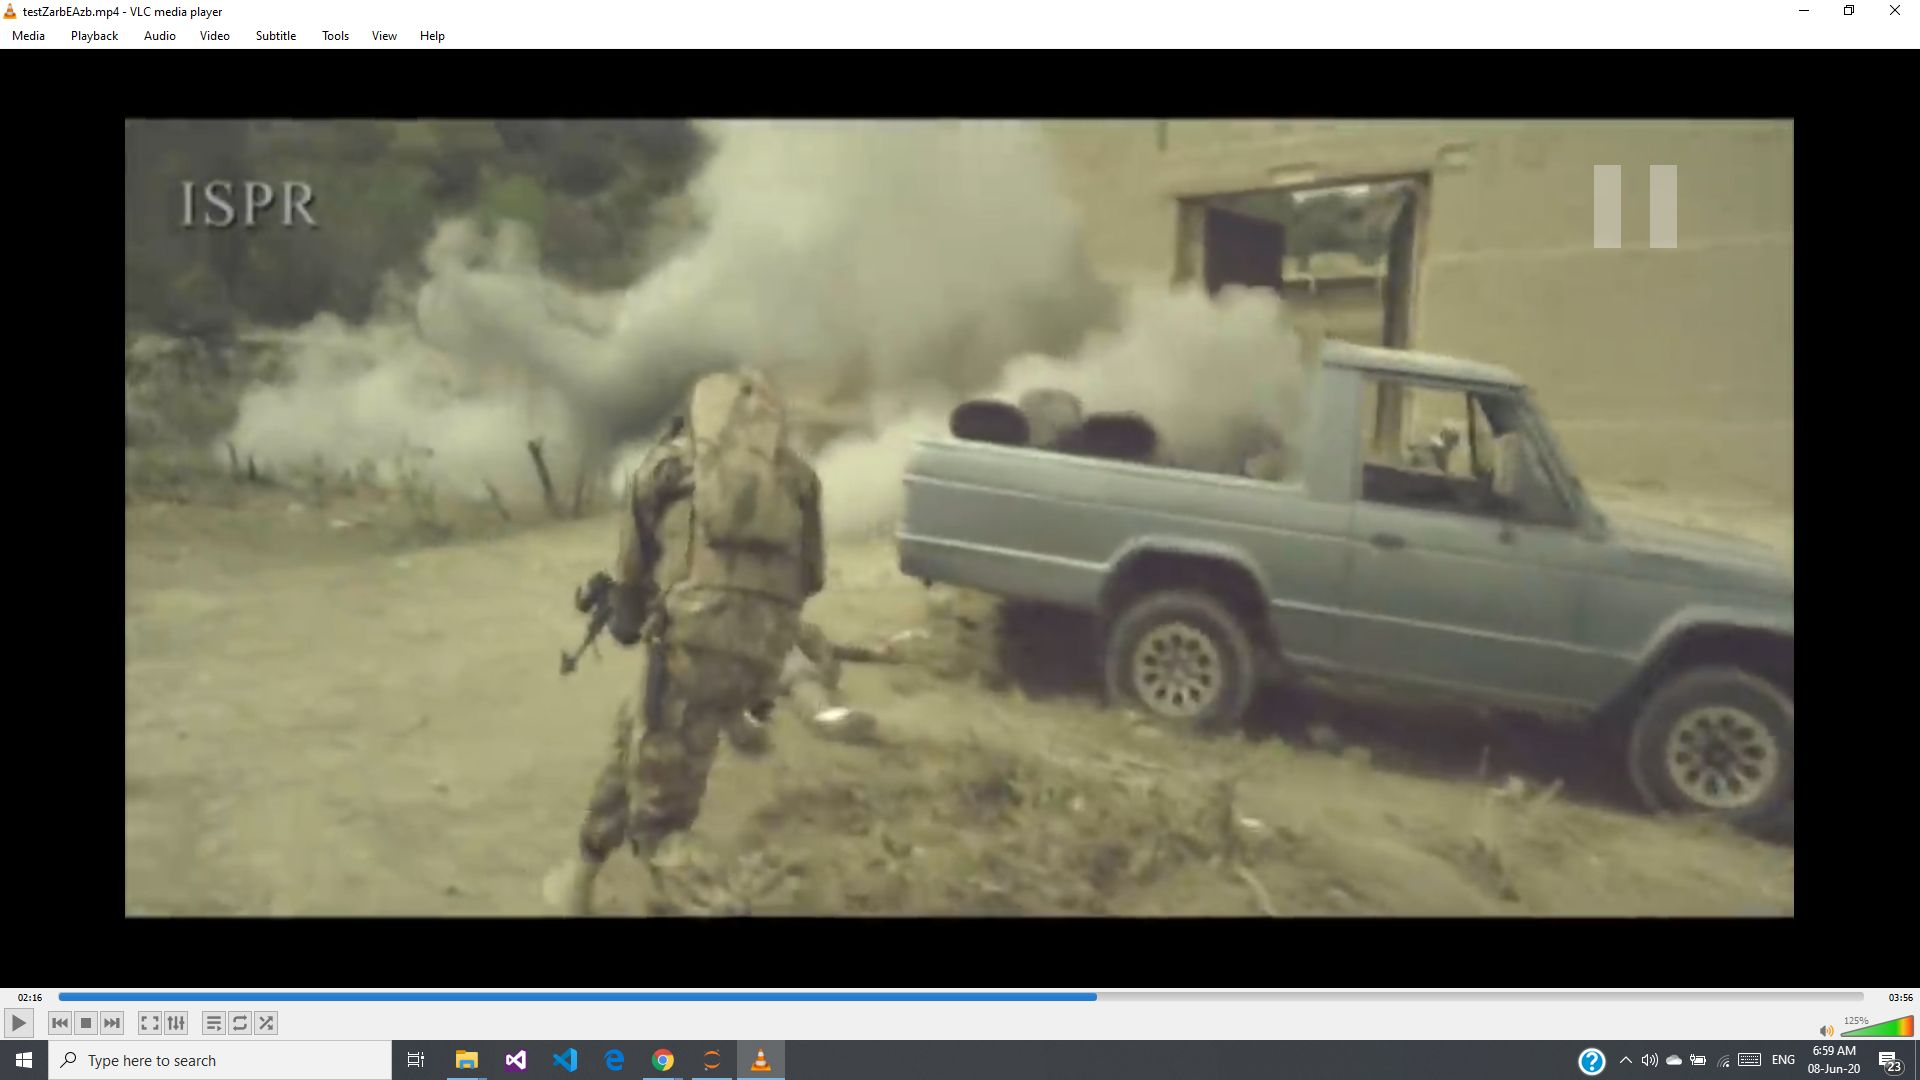gun: (535, 505, 688, 684)
uniform: (541, 327, 811, 901)
